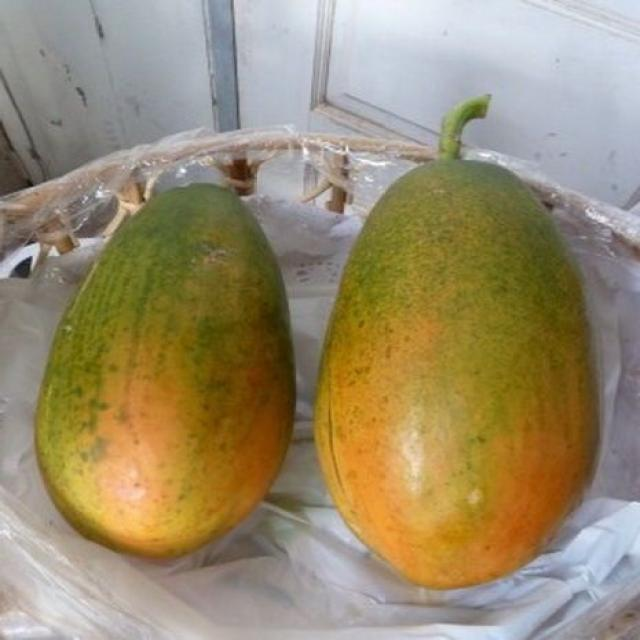Pepaya rippen: (312, 136, 606, 591), (36, 174, 303, 570)
